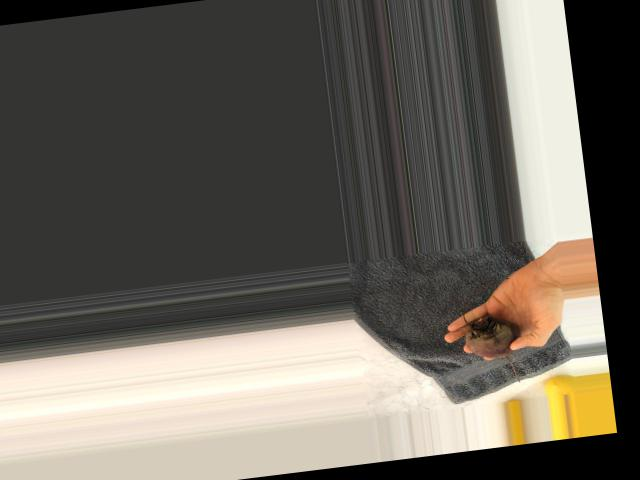beet: (463, 311, 526, 388)
